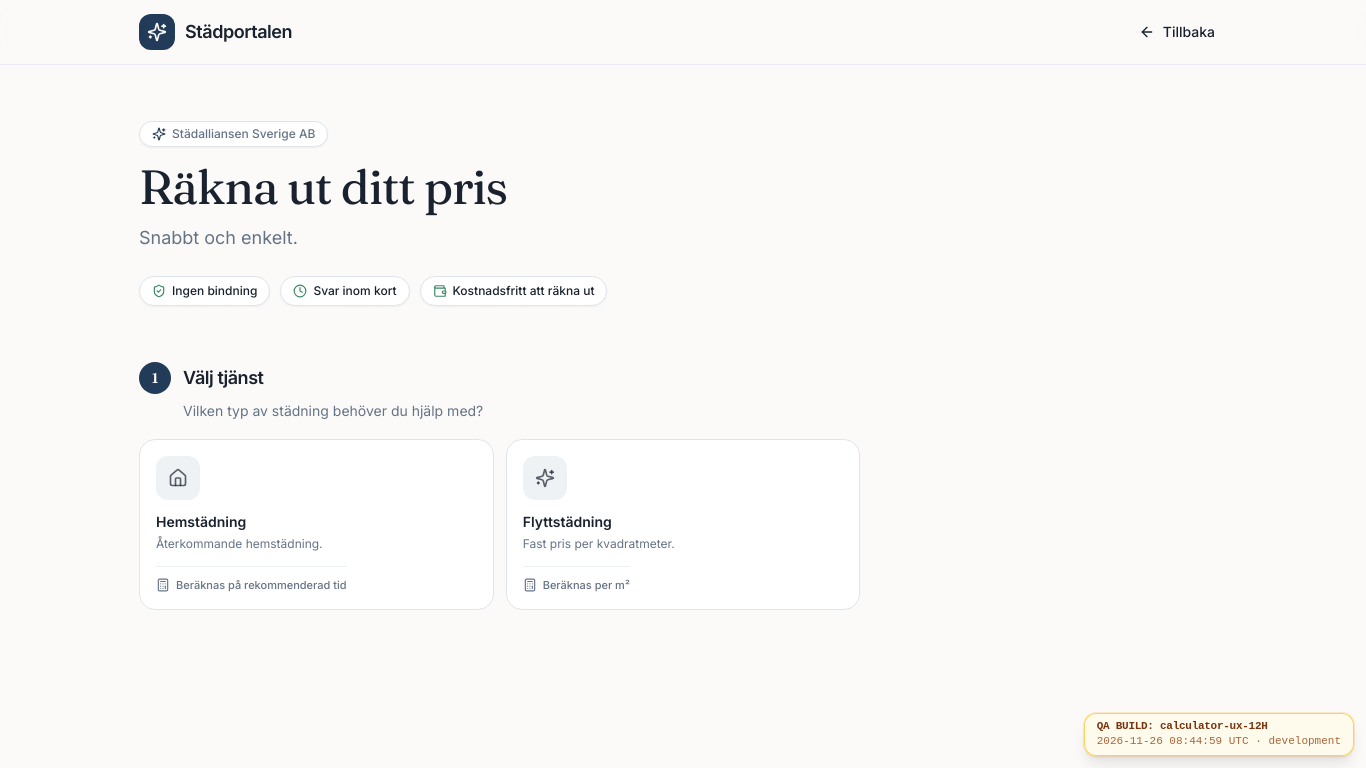
PriceCalculator — selectable generic sqm_fixed service (GPM-9) › keeps legacy/Home selectable and on its normal flow (unchanged)
This screenshot has width=1366, height=768.
Click the button "Hemstädning".
click(178, 478)  # box x1=139 y1=439 x2=494 y2=610
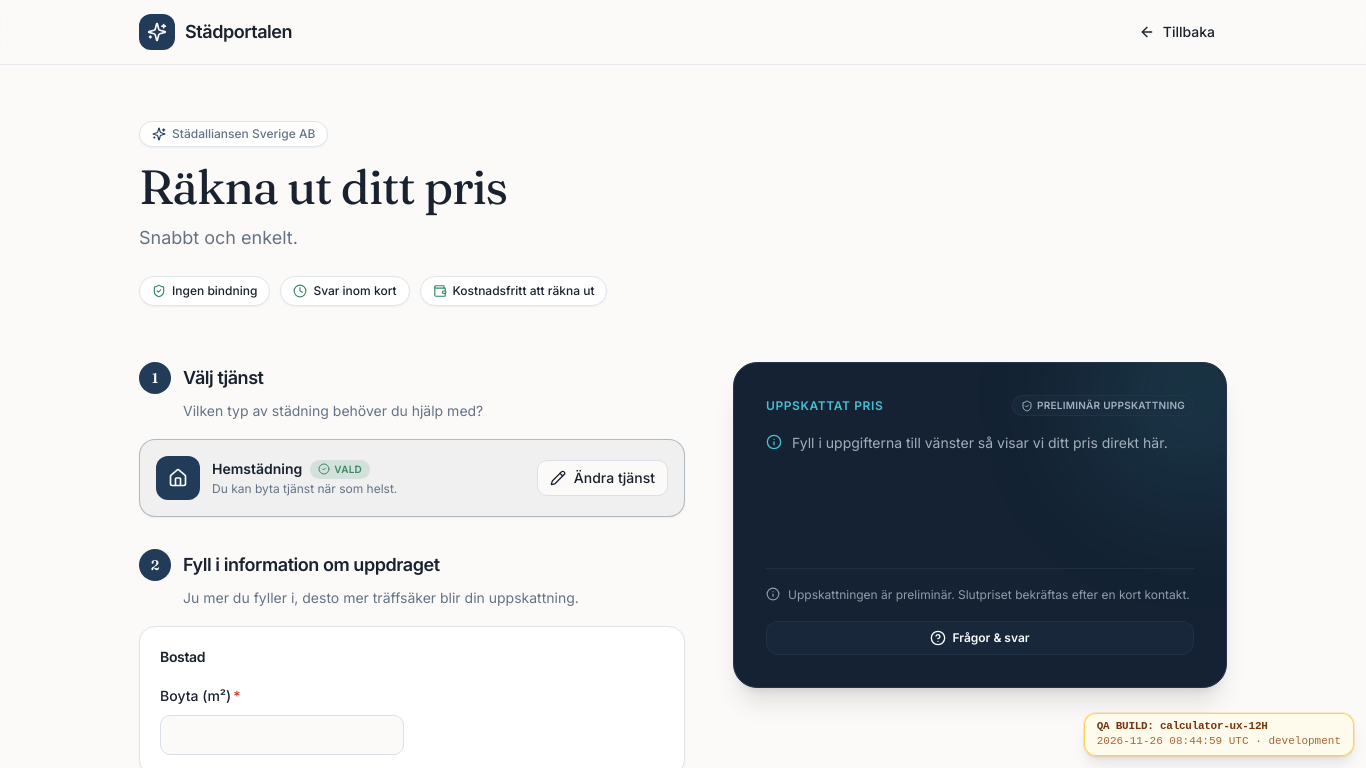
expect the heading "Fyll i information om uppdraget" is shown: met, box x1=183 y1=551 x2=440 y2=579
expect the number field labelled "Boyta (m²)*" is shown: met, box x1=160 y1=715 x2=404 y2=755
